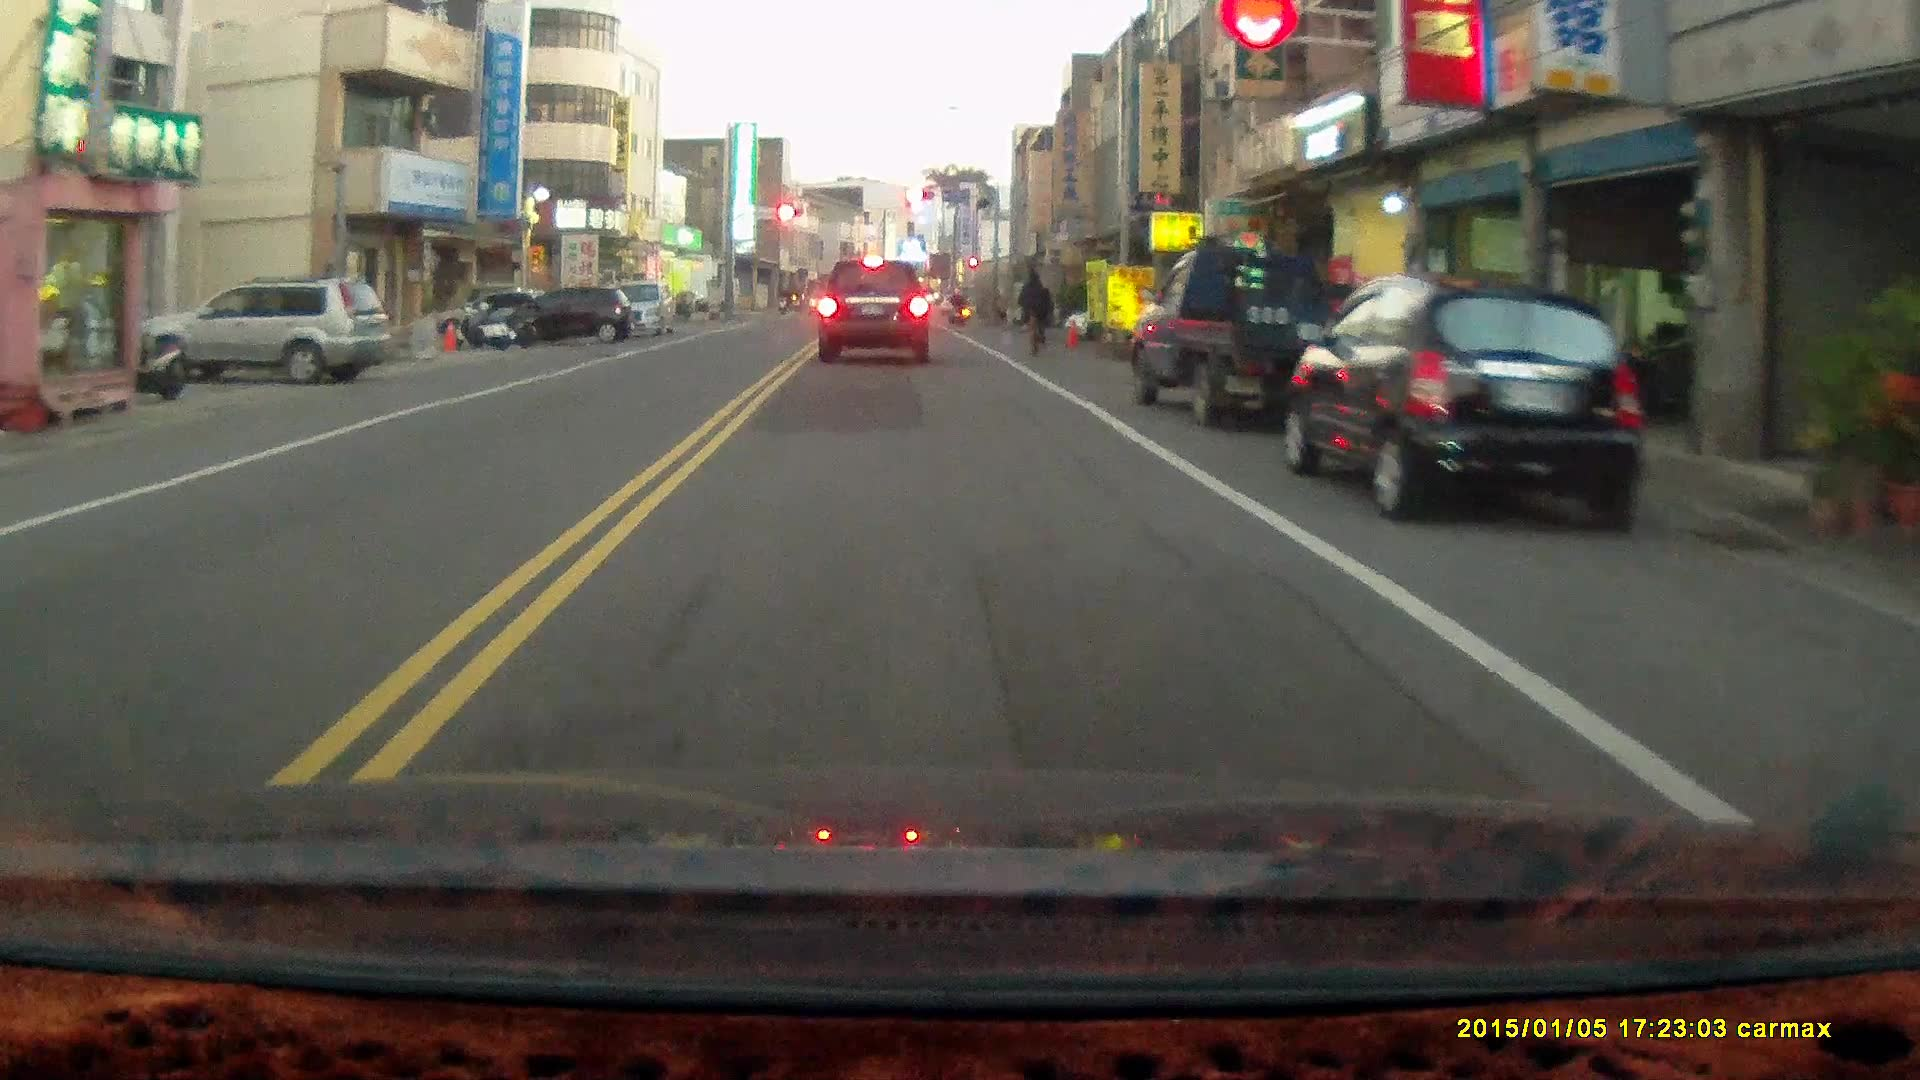rider: (1014, 266, 1055, 359)
vehicle: (1286, 272, 1651, 526), (1130, 244, 1368, 424), (140, 274, 395, 387), (816, 256, 932, 366), (504, 285, 637, 343), (590, 275, 678, 342)
